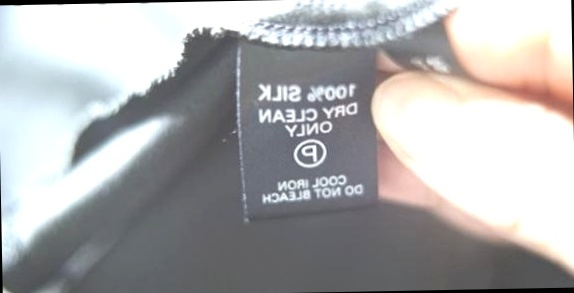dry_clean_any_solvent_except_trichloroethylene: (292, 137, 326, 168)
